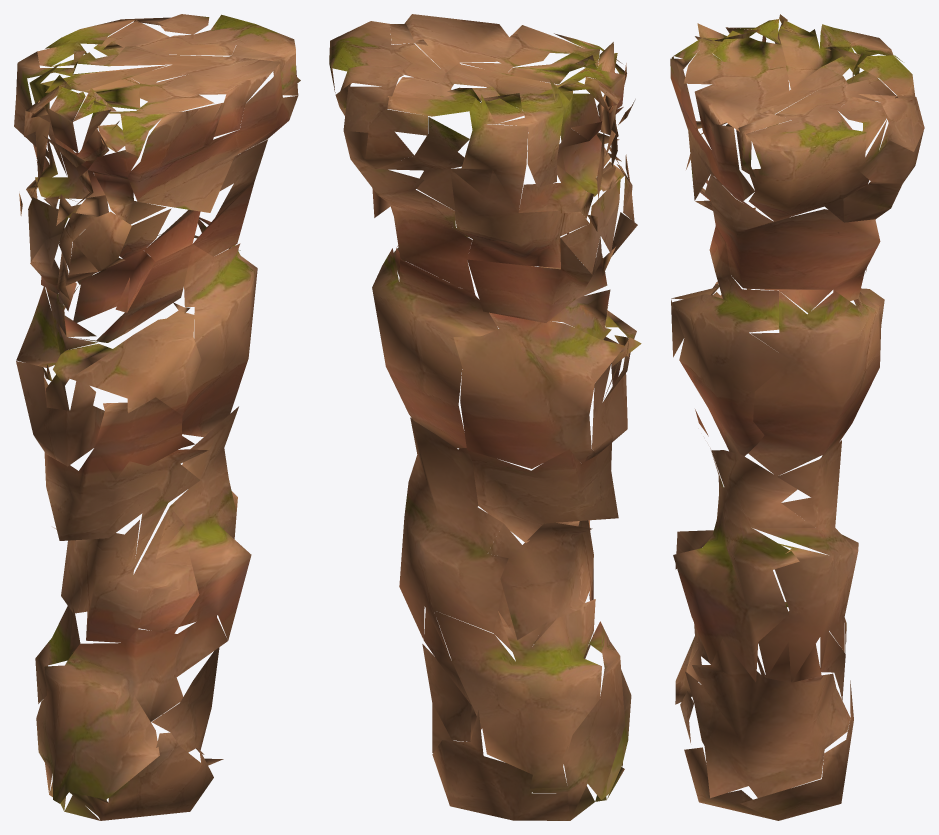
File: p_hill_pillar.glb
3 renders of one model, left to right at view 1: azimuth 30°, elevation 25°; view 2: azimuth 150°, elevation 25°; view 3: azimuth 270°, elevation 25°, orthographic. The views are drawn at different scales.
Parts seen in each view (by area): view 1: tripo_node_1a9dd067-85b6-4b78-b503-354376ae1658; view 2: tripo_node_1a9dd067-85b6-4b78-b503-354376ae1658; view 3: tripo_node_1a9dd067-85b6-4b78-b503-354376ae1658.
Part boxes in pixels (box(x1,y1,x2,y2)): tripo_node_1a9dd067-85b6-4b78-b503-354376ae1658: box(14, 14, 300, 820); tripo_node_1a9dd067-85b6-4b78-b503-354376ae1658: box(329, 14, 641, 820); tripo_node_1a9dd067-85b6-4b78-b503-354376ae1658: box(670, 14, 924, 820).
Bounding box in the file's own units: 0.3983 × 1 × 0.3107.
1 material, 1 textured.
